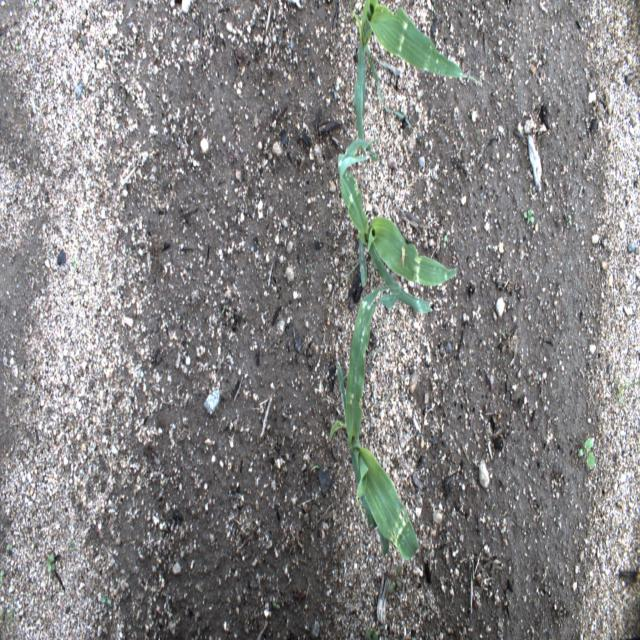crop: (329, 284, 431, 562), (338, 135, 456, 288), (352, 0, 480, 137)
weed: (615, 382, 639, 405), (578, 439, 595, 469), (388, 562, 402, 594), (521, 206, 537, 230), (45, 550, 58, 576), (526, 370, 540, 390), (365, 626, 380, 640), (310, 463, 321, 475), (99, 594, 112, 604), (499, 326, 506, 343), (30, 0, 43, 9), (567, 212, 573, 228), (489, 500, 496, 513), (72, 254, 78, 269), (272, 601, 281, 610), (69, 539, 75, 552), (0, 36, 5, 51), (430, 4, 436, 16), (442, 236, 447, 250), (392, 457, 398, 468), (14, 44, 22, 52), (6, 545, 12, 552), (0, 569, 3, 582), (221, 306, 225, 315), (304, 270, 308, 278)
